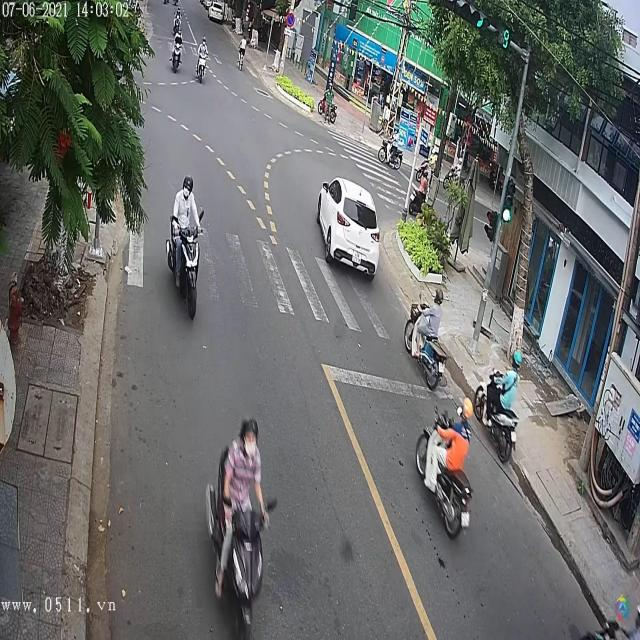car: (317, 178, 381, 278), (209, 4, 227, 24)
motorcycle: (202, 432, 276, 640), (416, 406, 474, 541), (165, 210, 207, 326), (476, 366, 520, 468), (404, 296, 449, 392), (196, 44, 208, 86), (169, 36, 182, 72)
